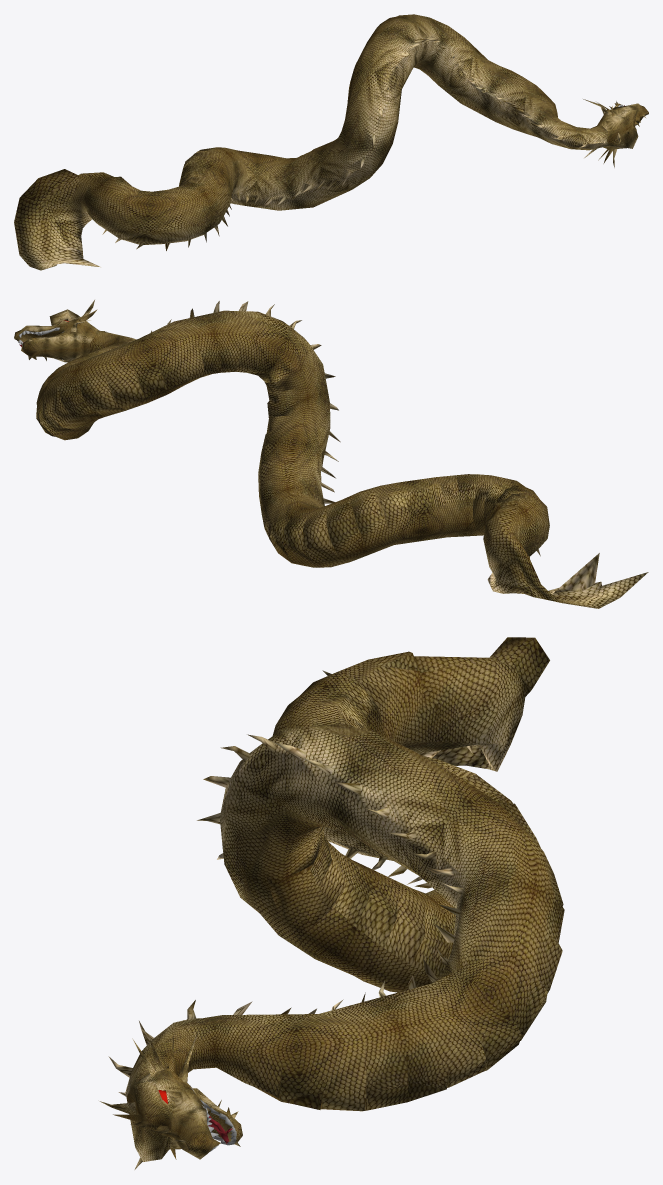
File: surasa_000020.obj
3 views of the same model, one above another, from view 1: azimuth 30°, elevation 25°; view 2: azimuth 150°, elevation 25°; view 3: azimuth 270°, elevation 25° (orthographic). The views are drawn at different scales.
Parts seen in each view (by area): view 1: body_Plane.001; view 2: body_Plane.001; view 3: body_Plane.001.
Boxes of the visible parts, x1=… form: body_Plane.001: x1=14, y1=14, x2=648, y2=270; body_Plane.001: x1=14, y1=300, x2=648, y2=608; body_Plane.001: x1=99, y1=637, x2=564, y2=1169.
Bounding box in the file's own units: 60.92 × 17.09 × 21.39.
